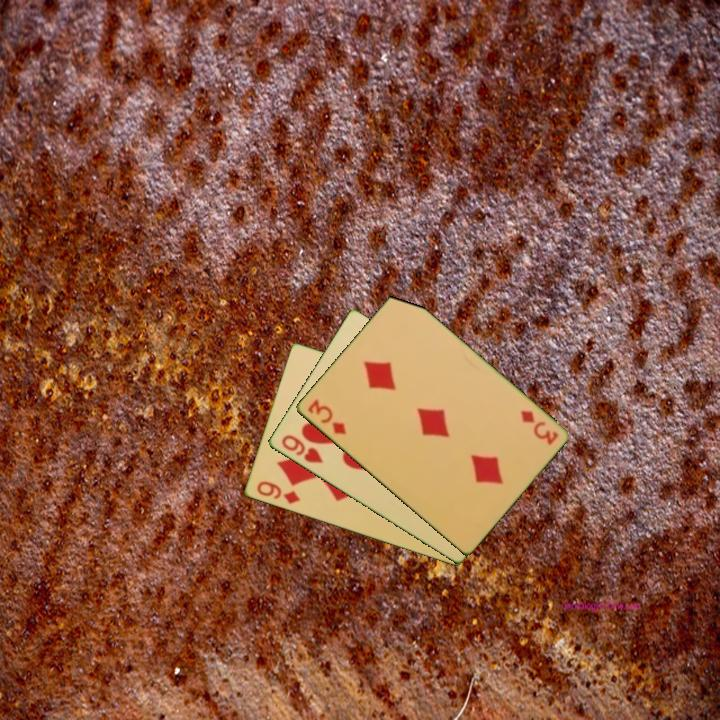3d: (304, 395, 349, 438), (516, 407, 561, 448)
9d: (253, 478, 303, 507)
9h: (277, 431, 325, 466)
